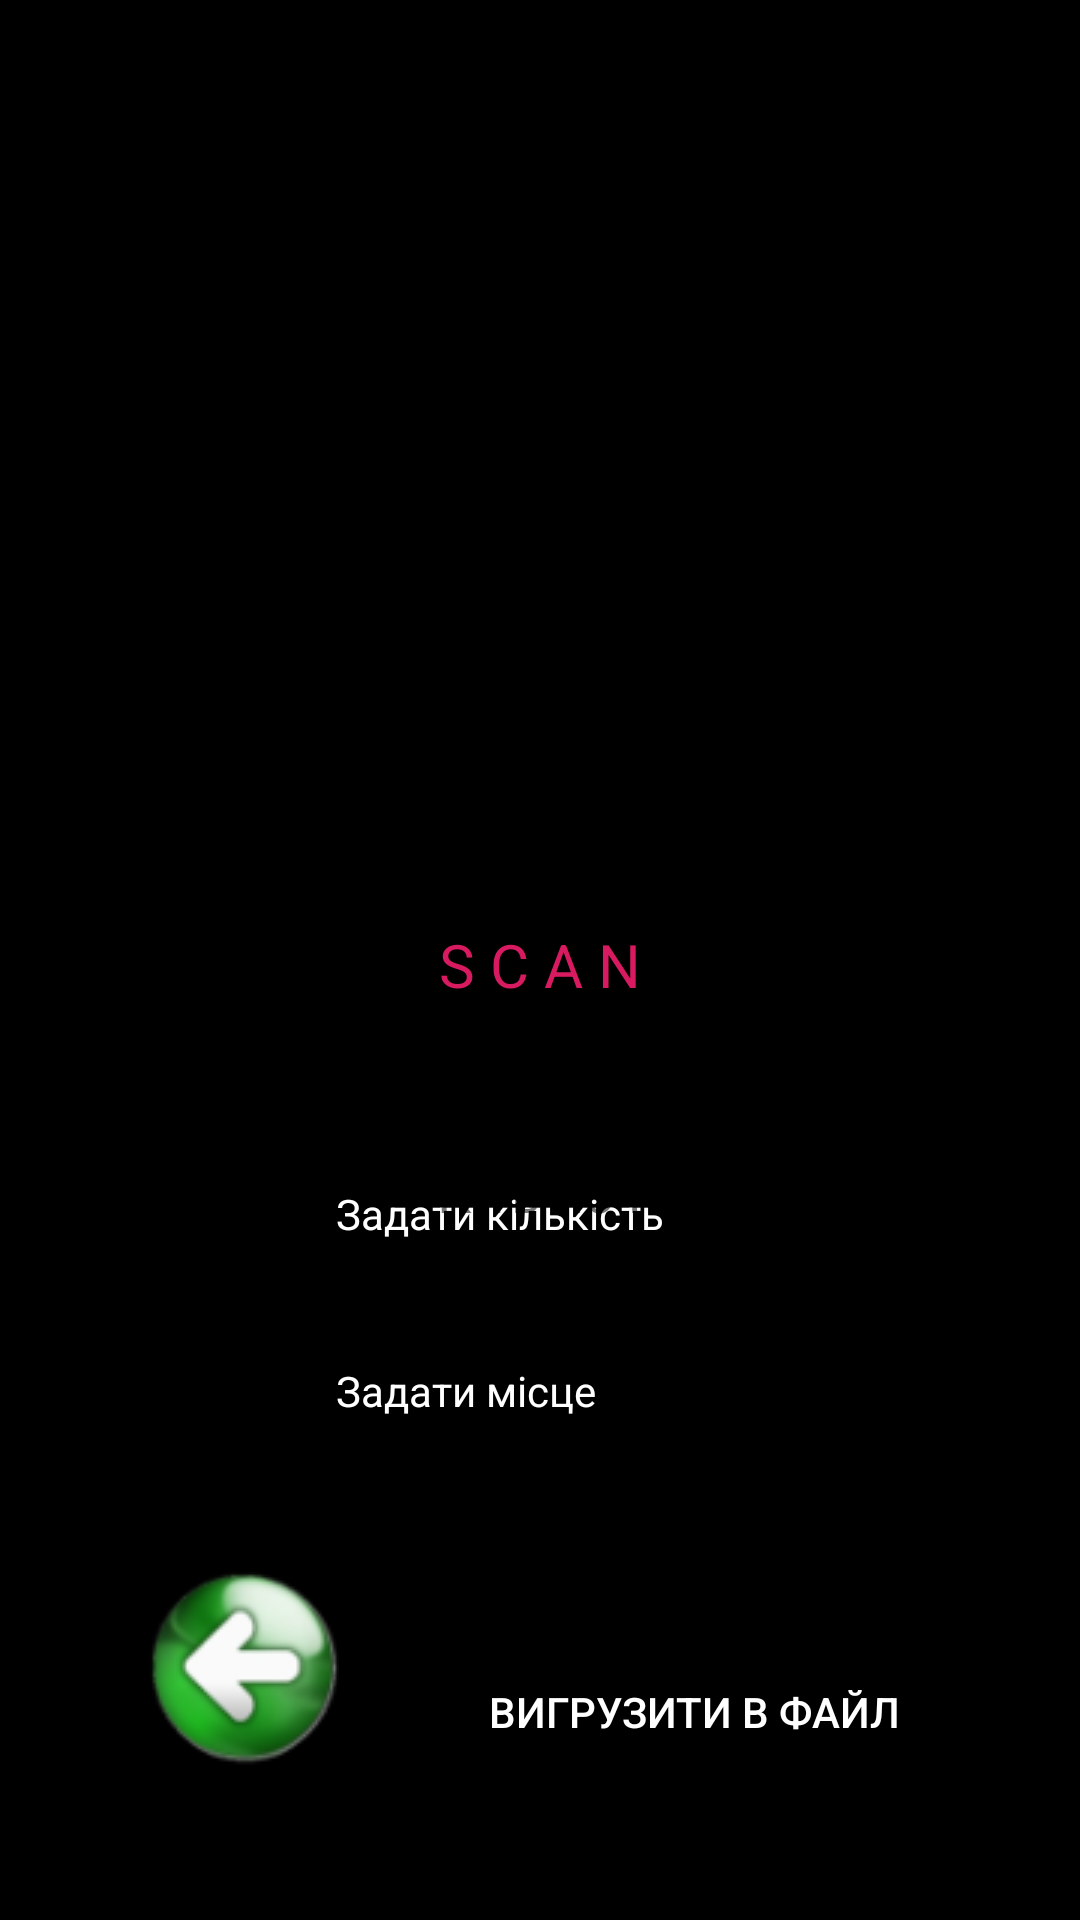

Icon click points for this 1080 x 1920 phone screenshot, format (x=x, y=y):
back: (x=244, y=1668)
